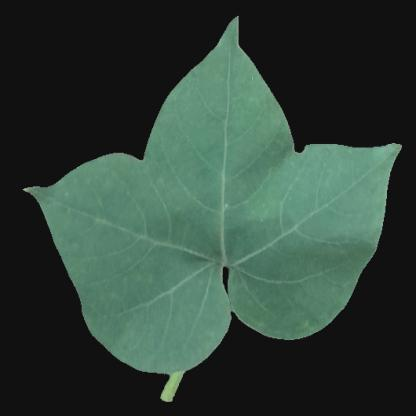healthy: (154, 101, 275, 317), (77, 187, 220, 327), (277, 160, 370, 268), (276, 271, 338, 325), (203, 63, 261, 99)
